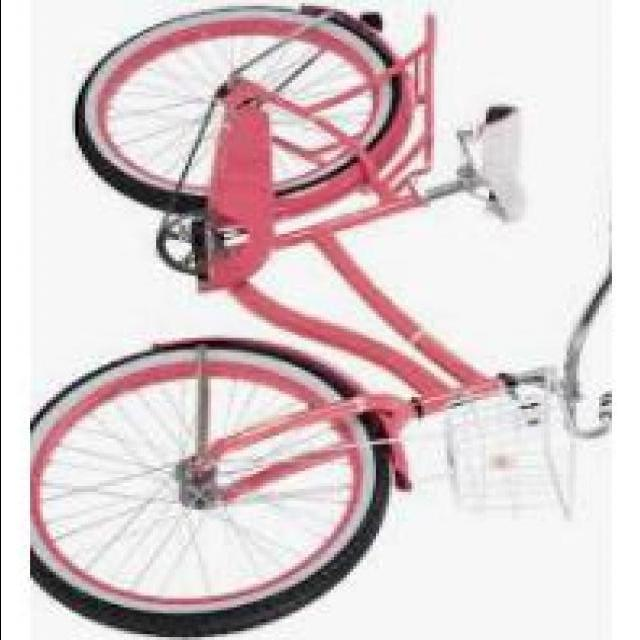bicycle: (53, 4, 570, 614)
